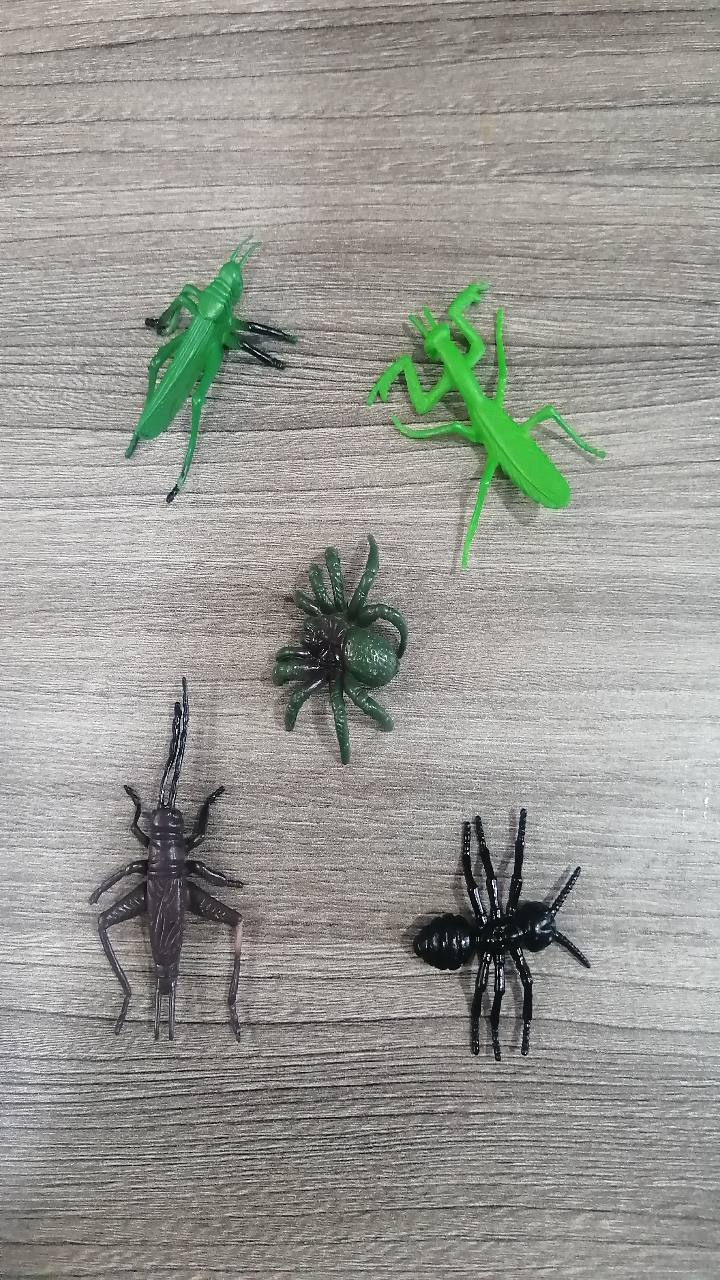intruso: (340, 254, 626, 579), (72, 666, 266, 1052), (83, 215, 303, 531), (378, 789, 608, 1091), (240, 525, 448, 769)
